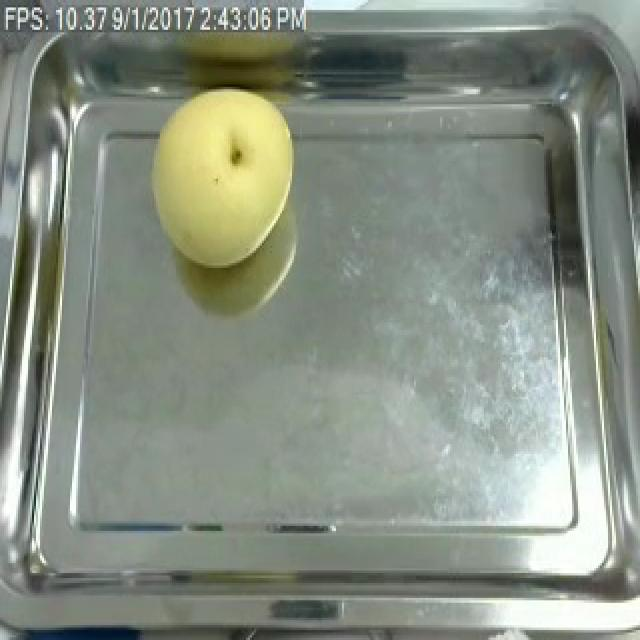Fruit: (140, 80, 306, 276)
